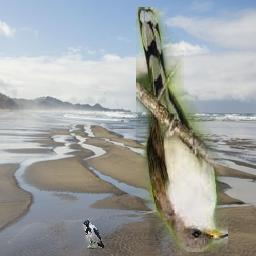Crow: (82, 219, 104, 249)
Cuckoo: (136, 8, 228, 253)
